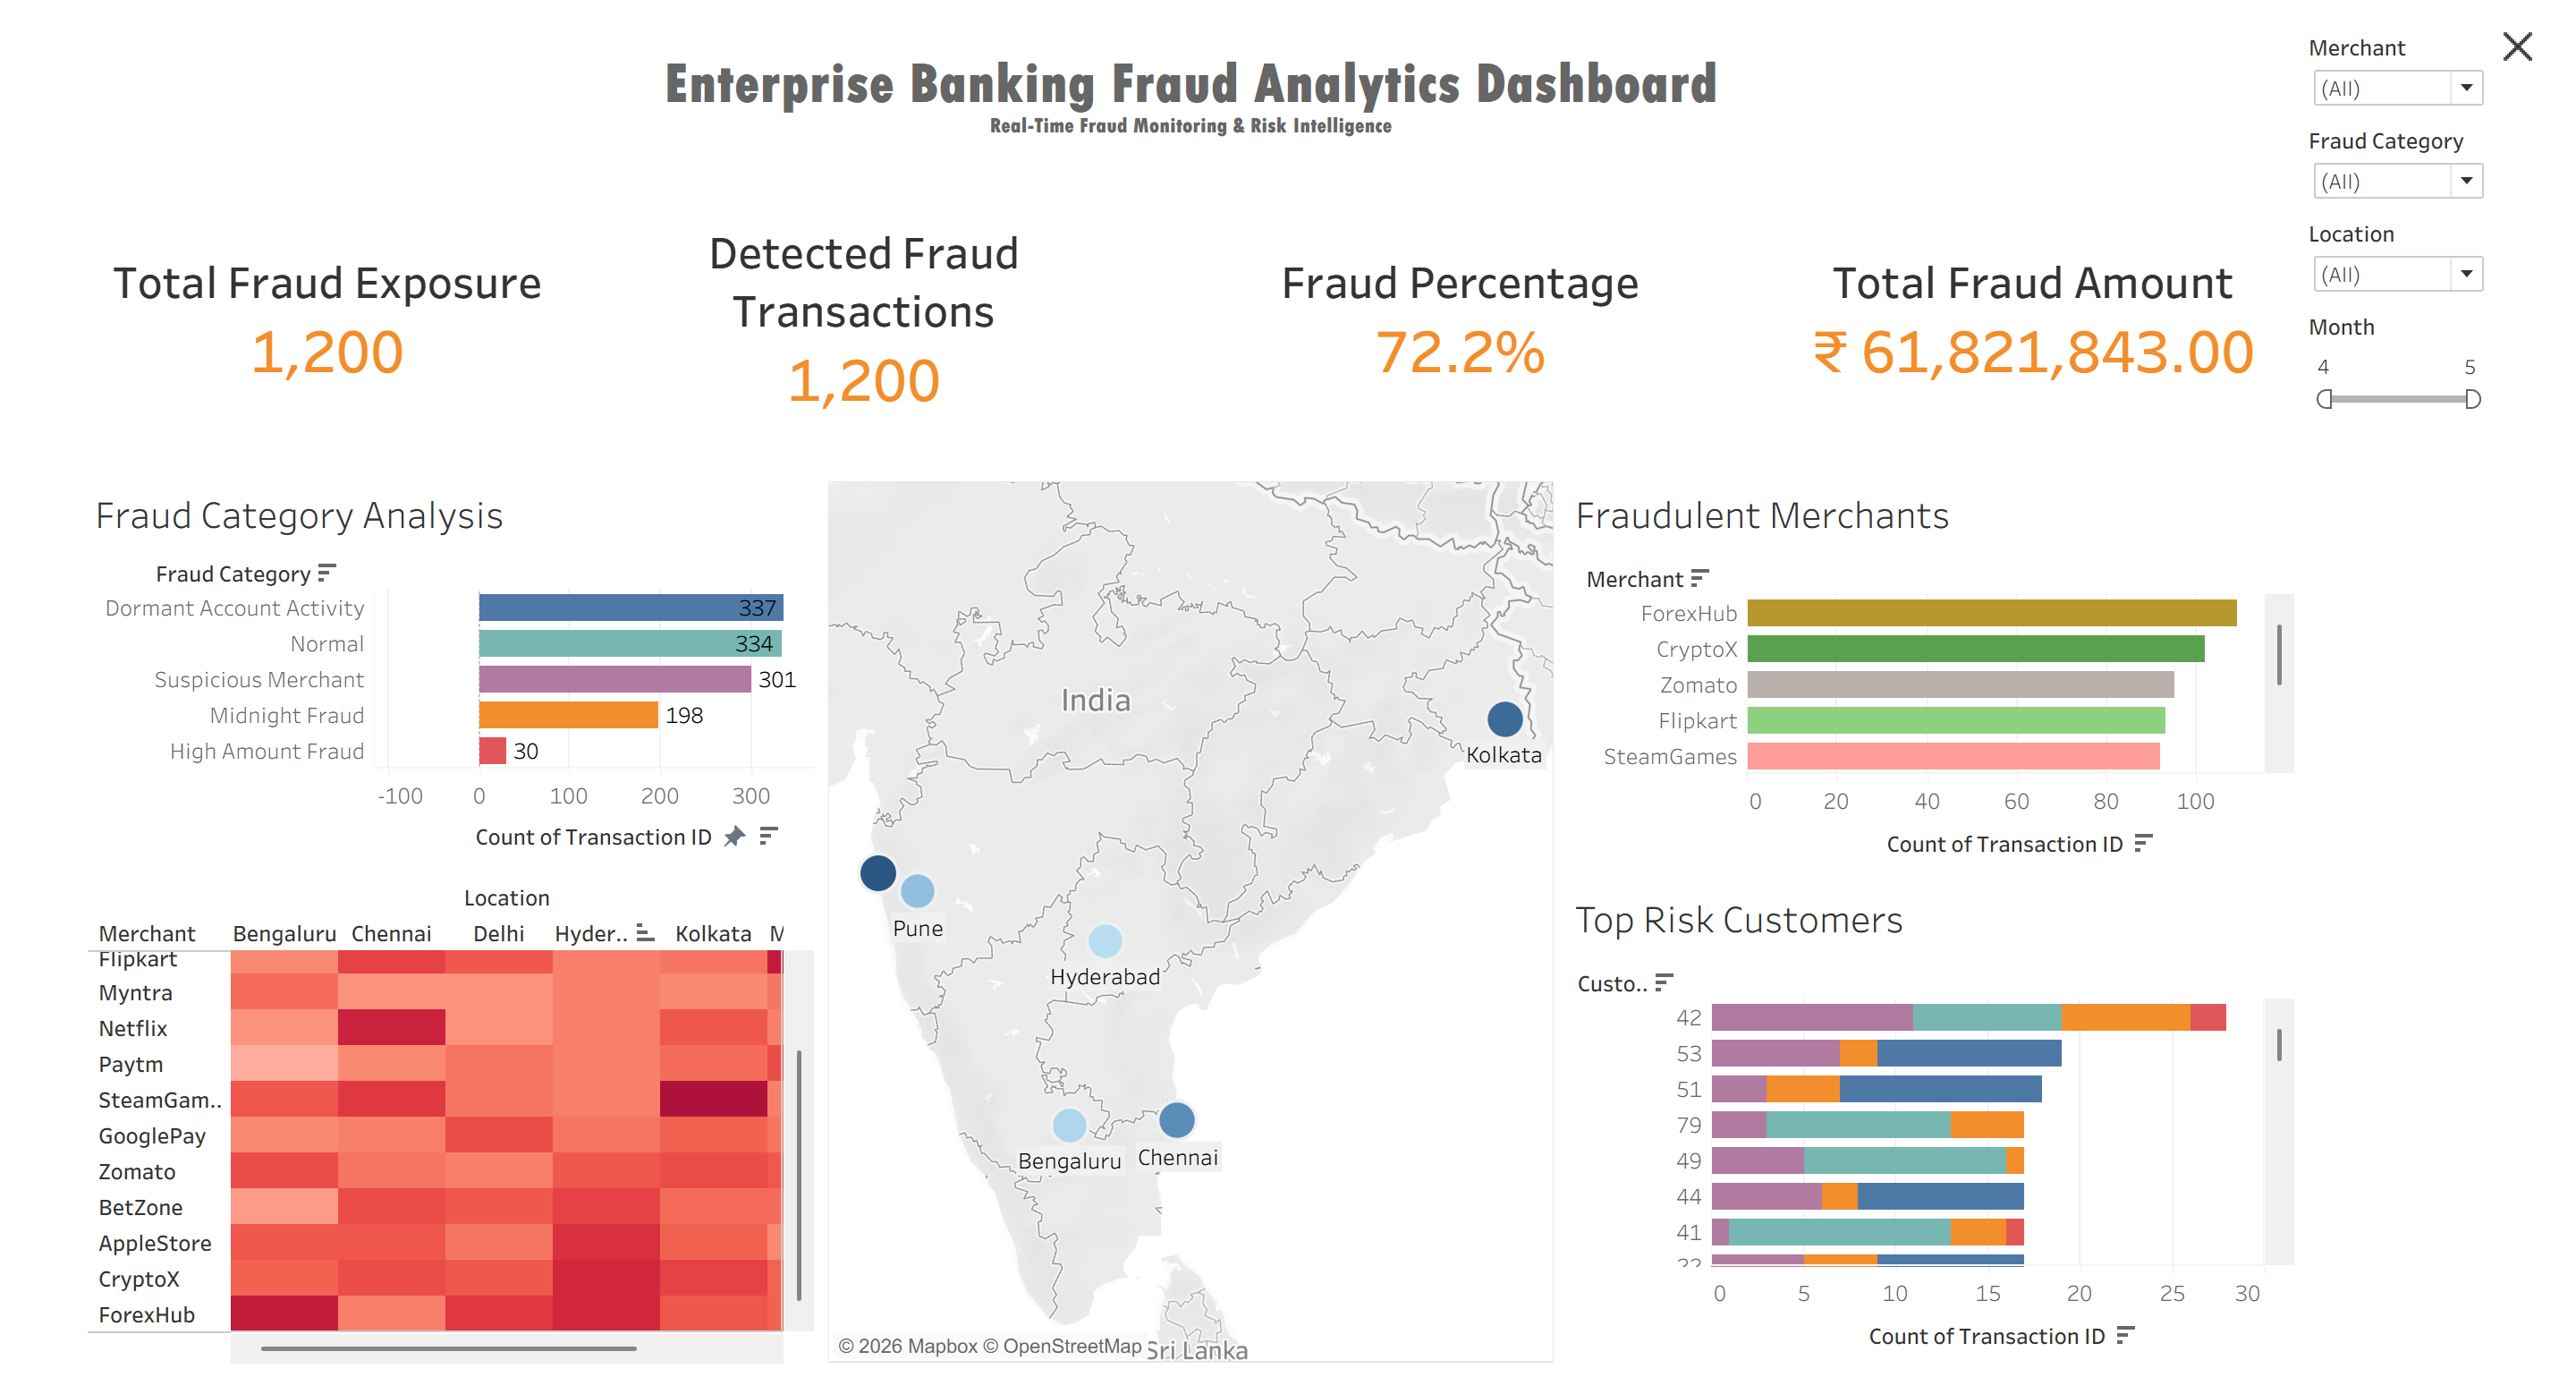

This screenshot's page, from the dashboard's own definition file:
{"tool":"tableau","page":{"name":"Enterprise Banking Fraud Analytics Dashboard","canvas":[1366,768],"ordinal":1},"visuals":[{"type":"text","box":[8,8,1241,78]},{"type":"filter","title":"Fraudulent Merchants","param":"[federated.00lh7g21p5xt8m10v9rvt1rc38ng].[none:Merchant:nk]","box":[1249,8,109,52]},{"type":"filter","title":"Fraudulent Merchants","param":"[federated.00lh7g21p5xt8m10v9rvt1rc38ng].[none:FraudCategory:nk]","box":[1249,60,109,52]},{"type":"worksheet","title":"KPI Total Transactions ","mark":"Automatic","box":[8,86,275,172.7]},{"type":"worksheet","title":"KPI Fraud Transactions","mark":"Automatic","box":[283,86,326,172.7]},{"type":"worksheet","title":"KPI Fraud Percentage","mark":"Automatic","box":[609,86,339.6,172.7]},{"type":"worksheet","title":"KPI Total Fraud Amount","mark":"Automatic","box":[948.6,86,300.4,172.7]},{"type":"filter","title":"Fraudulent Merchants","param":"[federated.00lh7g21p5xt8m10v9rvt1rc38ng].[none:Location:nk]","box":[1249,112,109,52]},{"type":"filter","title":"Fraudulent Merchants","param":"[federated.00lh7g21p5xt8m10v9rvt1rc38ng].[none:Month:qk]","box":[1249,164,109,69]},{"type":"worksheet","title":"Fraud Category Analysis","mark":"Bar","rows":["FraudCategory"],"cols":["TransactionID"],"box":[8,258.6,413.6,222]},{"type":"worksheet","title":"Fraud Distribution by City","mark":"Automatic","box":[421.6,258.6,413.7,501.4]},{"type":"worksheet","title":"Fraudulent Merchants","mark":"Automatic","rows":["Merchant"],"cols":["TransactionID"],"box":[835.3,258.6,413.7,226.3]},{"type":"worksheet","title":"Fraud Heatmap","mark":"Square","rows":["Merchant"],"cols":["Location"],"box":[8,480.6,413.6,279.4]},{"type":"worksheet","title":"Top Risk Customers","mark":"Automatic","rows":["CustomerKey (DimCustomer)"],"cols":["TransactionID"],"box":[835.3,485,413.7,275]}]}

Visuals, with their boxes on the page's 1366x768 design canvas (x1, y1, x2, y2). These are canvas units, not pixel positions in the 2576x1394 screenshot, which may show the page scaled, cropped or inside an application window:
text: (left=8, top=8, right=1249, bottom=86)
"Fraudulent Merchants" filter: (left=1249, top=8, right=1358, bottom=60)
"Fraudulent Merchants" filter: (left=1249, top=60, right=1358, bottom=112)
"KPI Total Transactions " worksheet: (left=8, top=86, right=283, bottom=259)
"KPI Fraud Transactions" worksheet: (left=283, top=86, right=609, bottom=259)
"KPI Fraud Percentage" worksheet: (left=609, top=86, right=949, bottom=259)
"KPI Total Fraud Amount" worksheet: (left=949, top=86, right=1249, bottom=259)
"Fraudulent Merchants" filter: (left=1249, top=112, right=1358, bottom=164)
"Fraudulent Merchants" filter: (left=1249, top=164, right=1358, bottom=233)
"Fraud Category Analysis" worksheet (Bar marks): (left=8, top=259, right=422, bottom=481)
"Fraud Distribution by City" worksheet: (left=422, top=259, right=835, bottom=760)
"Fraudulent Merchants" worksheet: (left=835, top=259, right=1249, bottom=485)
"Fraud Heatmap" worksheet (Square marks): (left=8, top=481, right=422, bottom=760)
"Top Risk Customers" worksheet: (left=835, top=485, right=1249, bottom=760)
